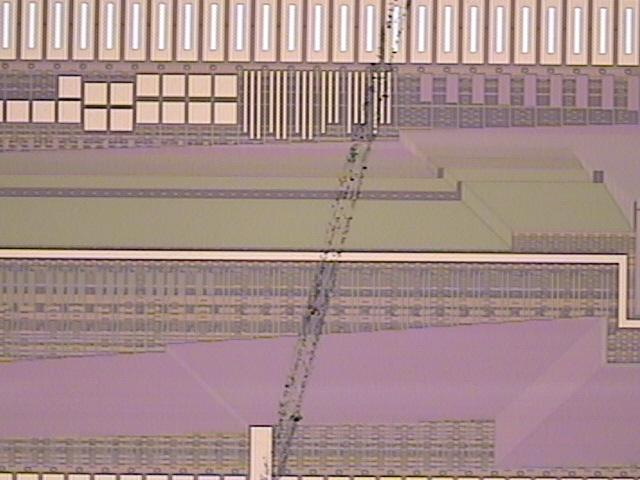SCRATCH: (254, 1, 419, 480)
